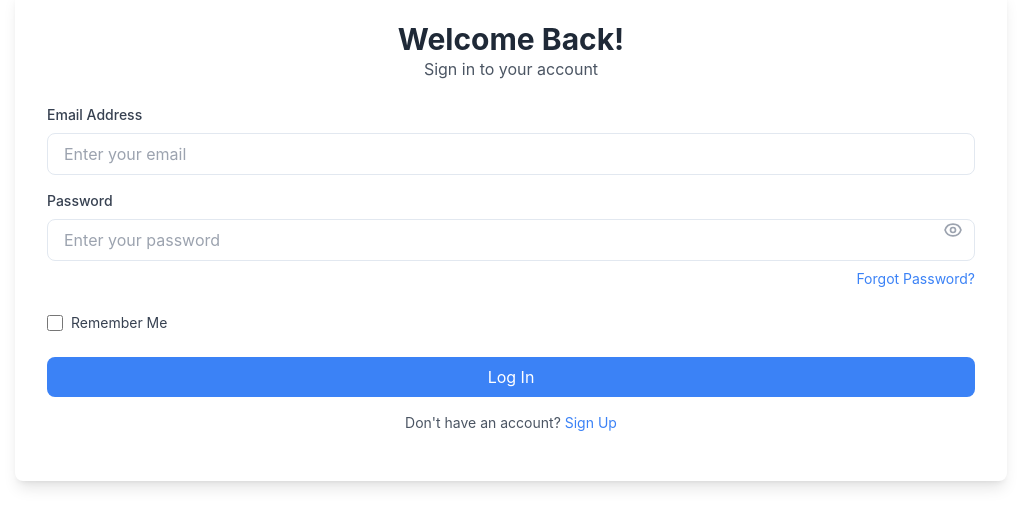
Test: Login page › shows validation error for invalid email
Type "notanemail" into the field with placeholder "Enter your email" at (511, 154), box [47,133,975,175]
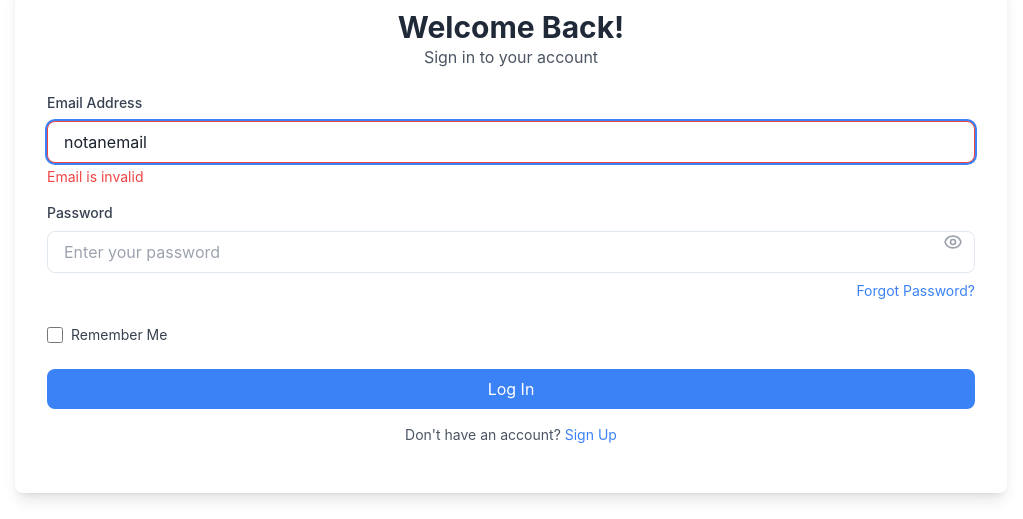
Expected: the text "Email is invalid" is shown, [47,168,144,185]
